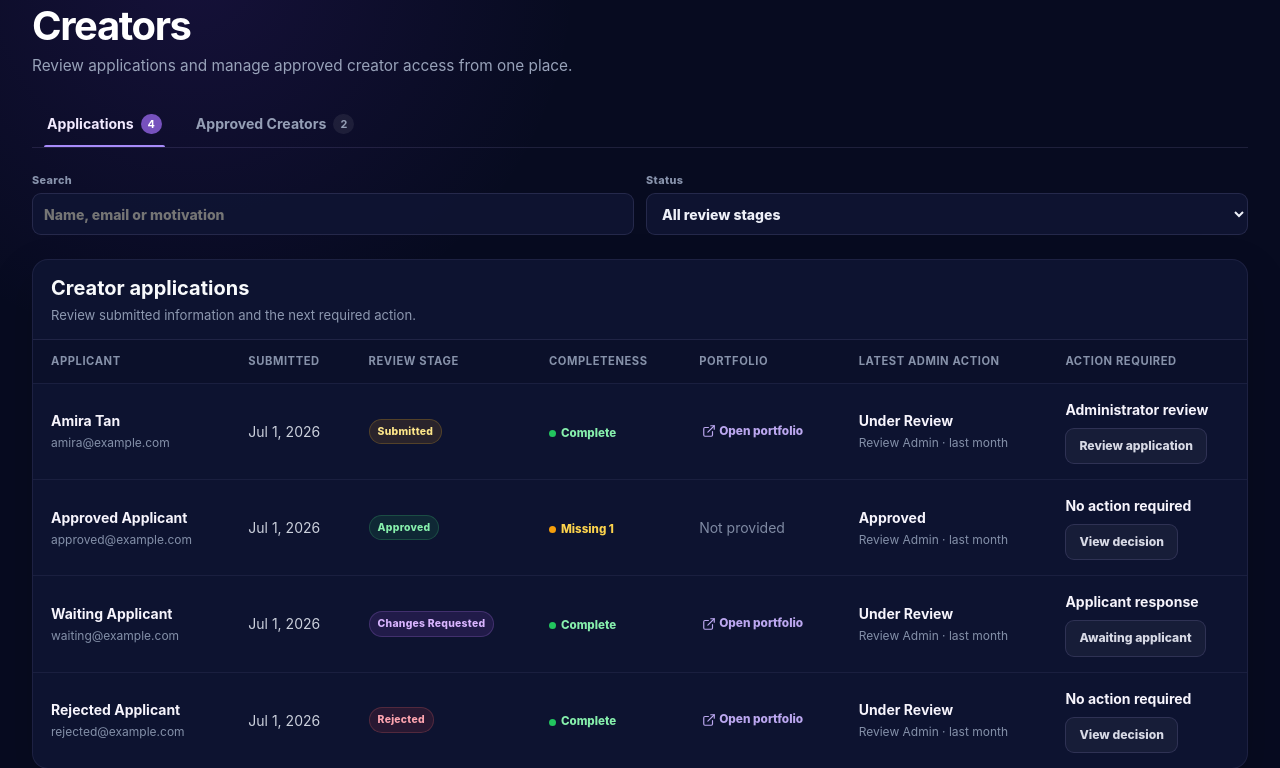
Scenario: Admin Creators workflow › confirms approval effects, prevents duplicate decisions, and refreshes rows and counts
Step 1. Click the button with aria-label "Open application for Amira Tan" → (132, 431), box [51,410,212,452]
(page scrolled)
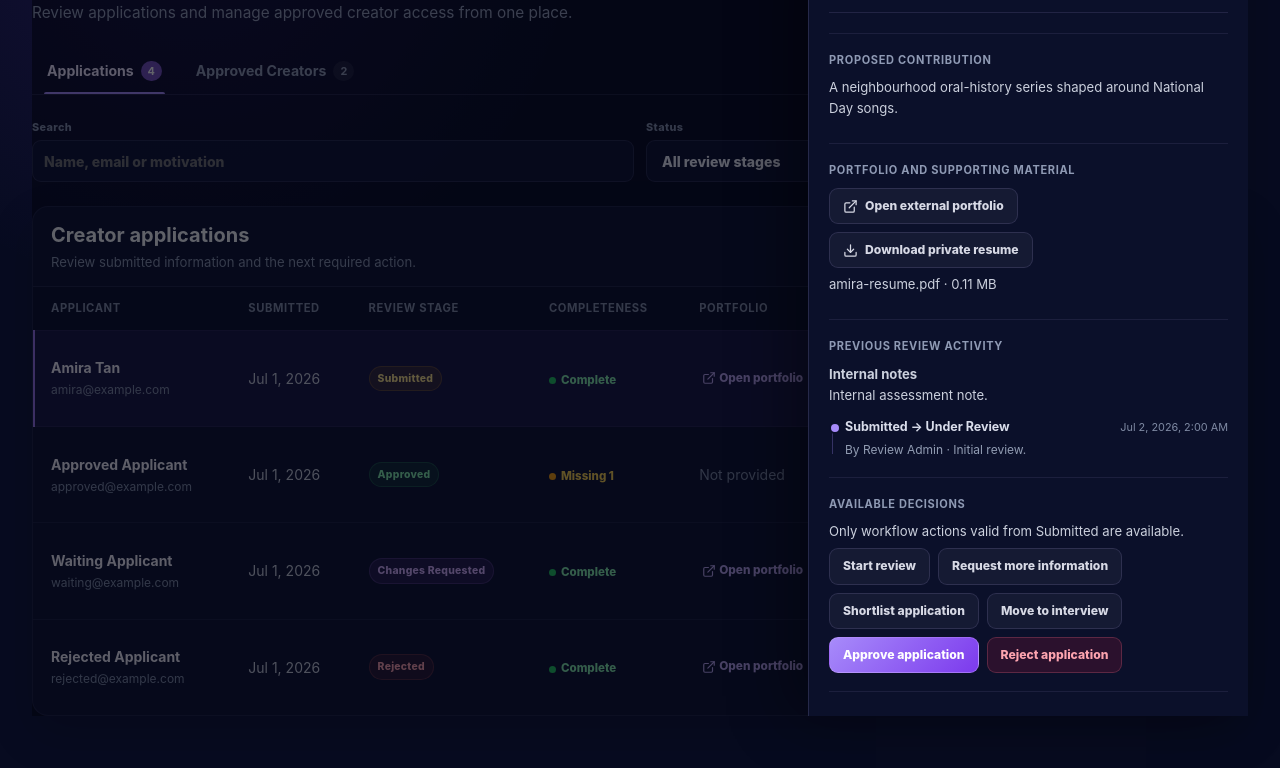
Step 2. Click the button "Approve application" → (904, 655), box [829,637,979,673]
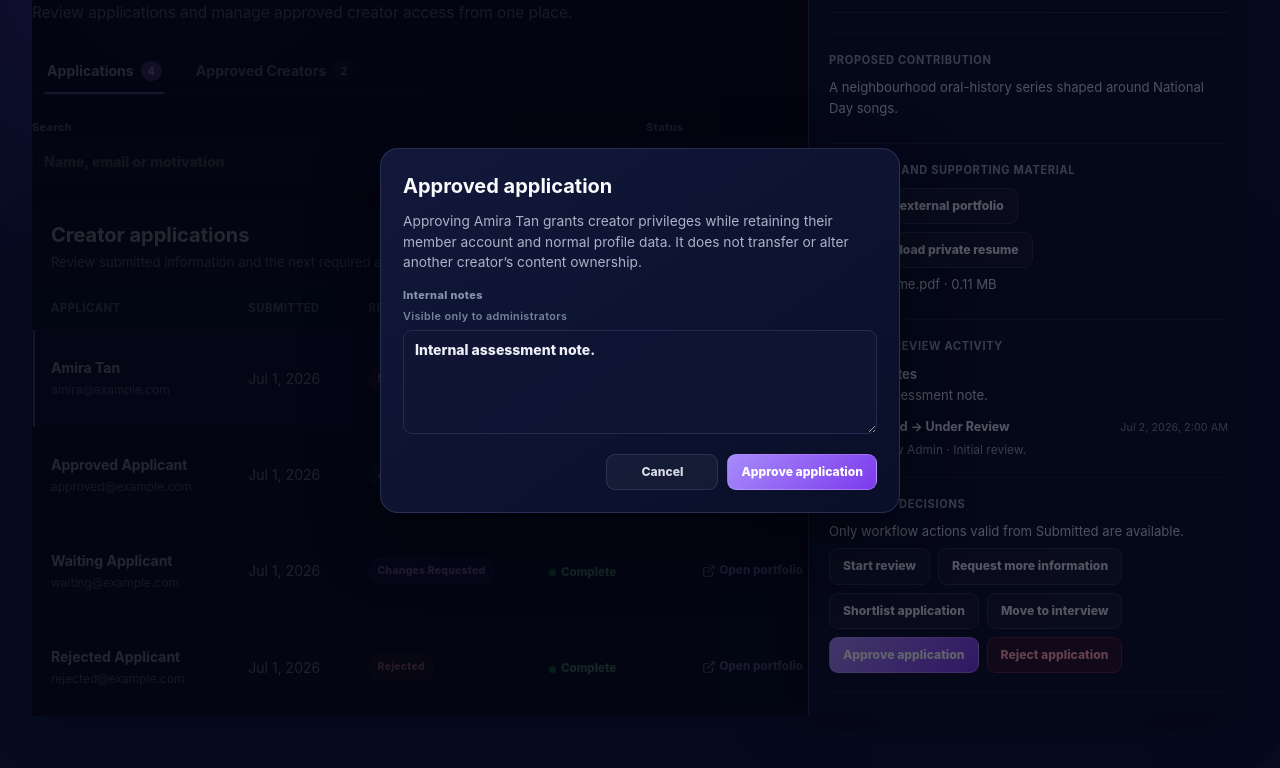
Now the dialog "Approved application" shows "grants creator privileges", box [403,213,849,270]
Now the dialog "Approved application" shows "retaining their member account", box [403,213,849,270]
Now the dialog "Approved application" shows "does not transfer or alter another creator’s content ownership", box [403,213,849,270]
Step 3. Click the button "Approve application" → (802, 472), box [727,454,877,490]
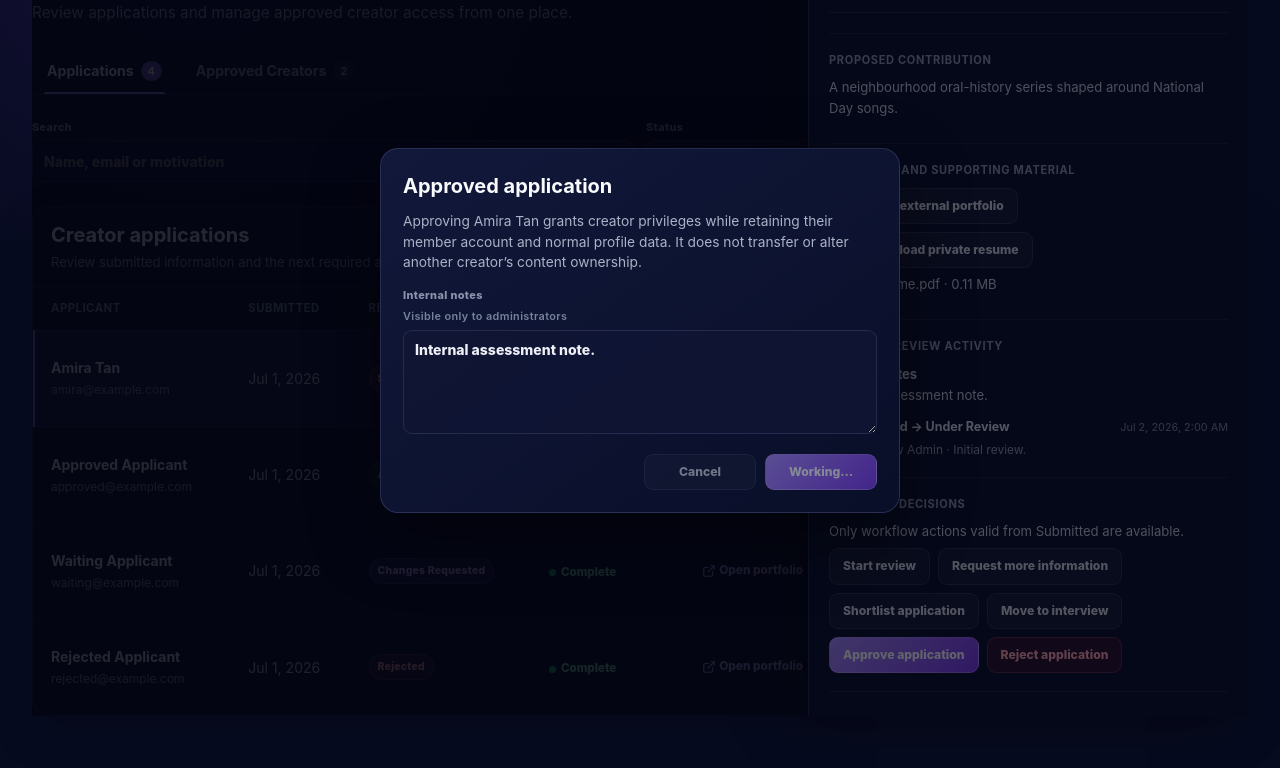
Step 4. Click the button named "Approve application" → (821, 472), box [765,454,877,490]
(page scrolled)
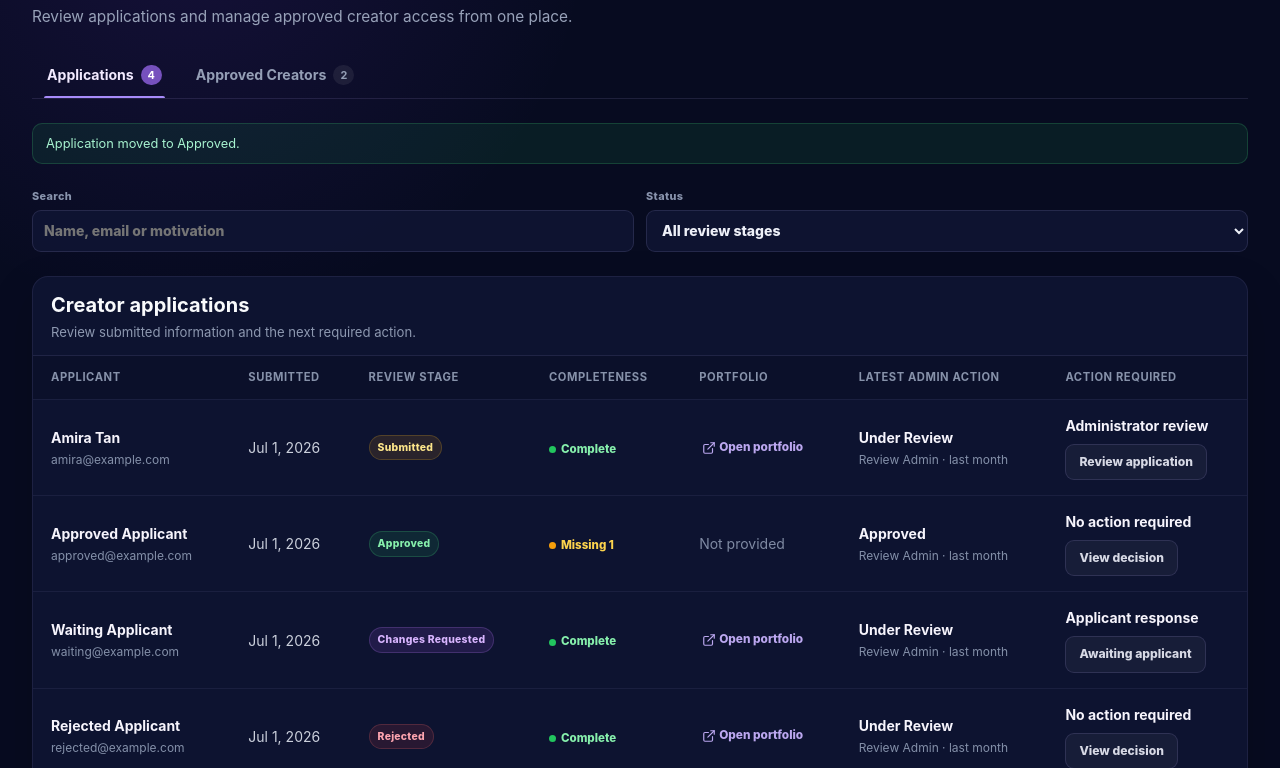
Now the message shows "Application moved to Approved", box [46,136,240,151]
